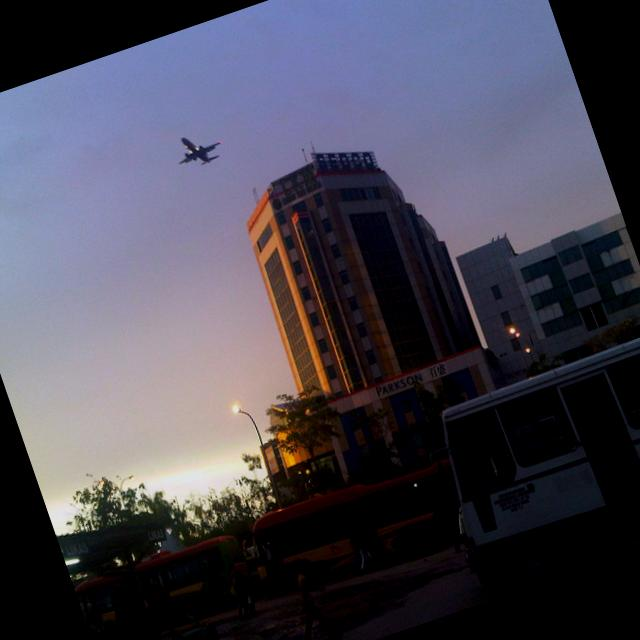Vehicle: (414, 329, 640, 603), (238, 448, 474, 606), (124, 524, 259, 636)
